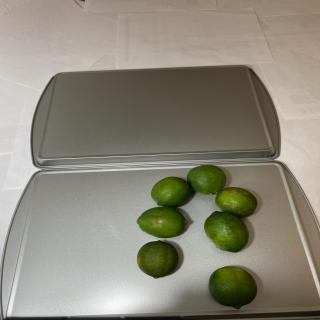Chilli: (136, 164, 259, 310)
Lemon: (208, 266, 258, 310), (204, 210, 249, 252), (136, 206, 188, 238), (137, 240, 179, 279), (215, 187, 258, 218), (151, 176, 191, 207), (186, 164, 226, 195)
